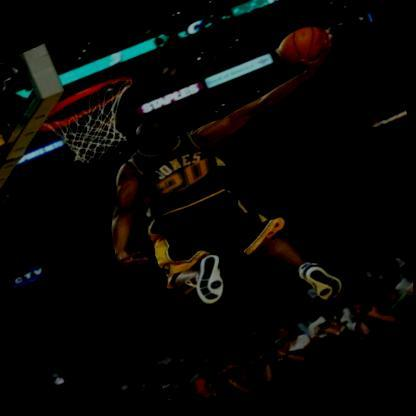basketball: (272, 23, 335, 79)
rim: (37, 69, 153, 176)
